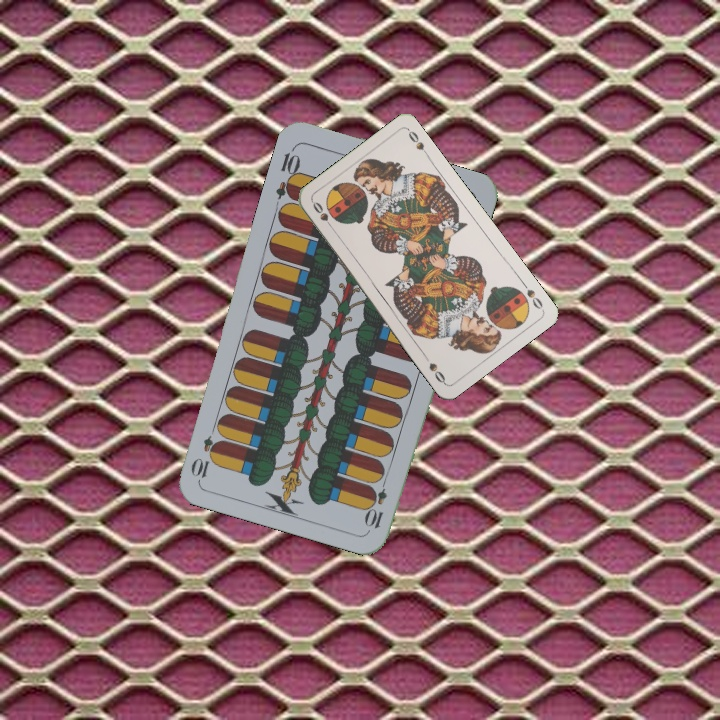E10: (271, 143, 303, 202), (363, 472, 390, 531)
SO: (308, 197, 337, 233), (517, 277, 545, 312)
